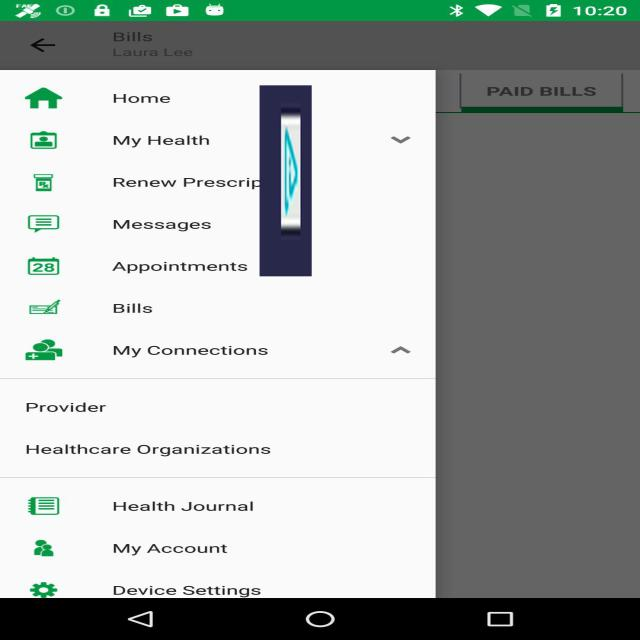sneaking: (260, 86, 312, 276)
